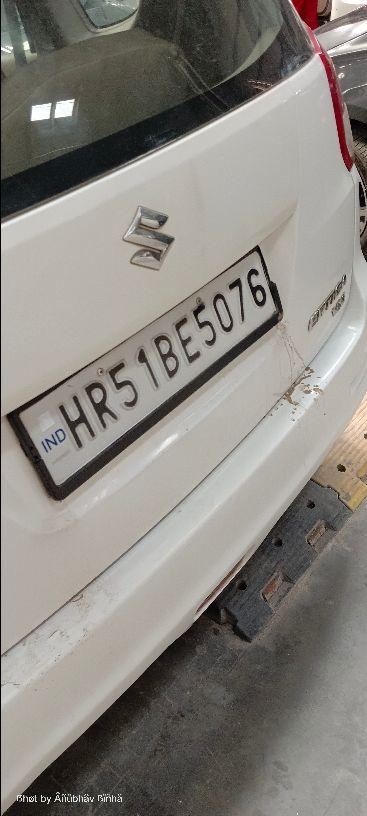license_plate: (5, 243, 285, 502)
